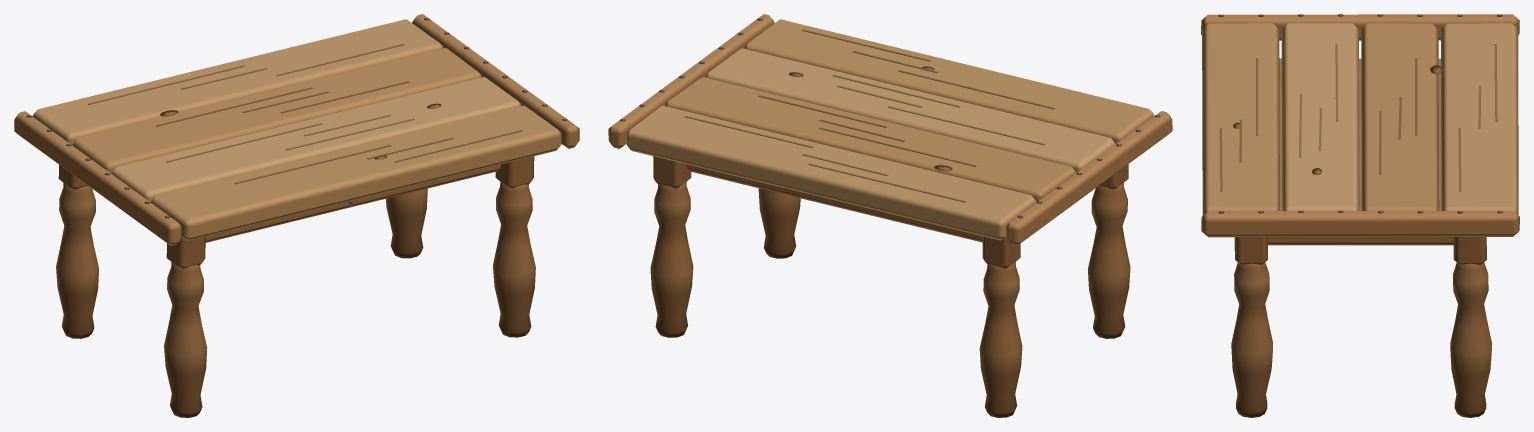
File: furn-woodTable.glb
3 renders of one model, left to right at view 1: azimuth 30°, elevation 25°; view 2: azimuth 150°, elevation 25°; view 3: azimuth 270°, elevation 25°, orthographic.
Parts seen in each view (by area): view 1: body; view 2: body; view 3: body.
Part boxes in pixels (left/top/right/bottom): body: left=14, top=14, right=579, bottom=417; body: left=608, top=14, right=1172, bottom=417; body: left=1201, top=14, right=1519, bottom=417.
Size of the model in its own units: 1.46 by 0.7268 by 0.9613.
